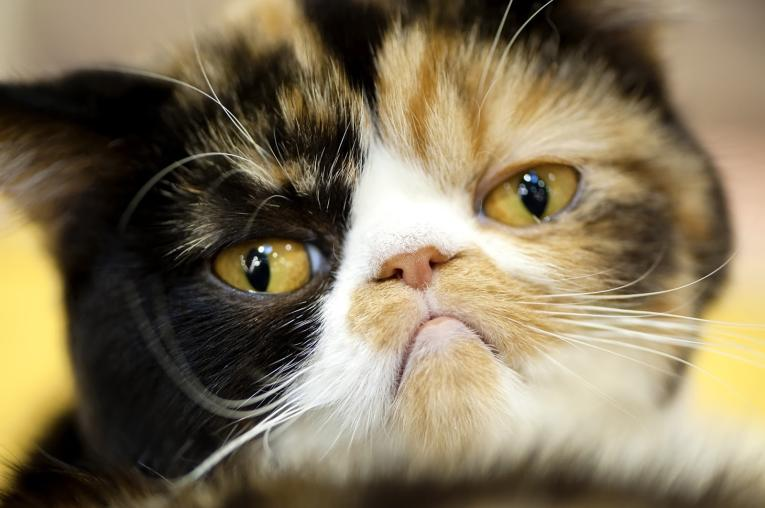Cat: (16, 5, 760, 500)
